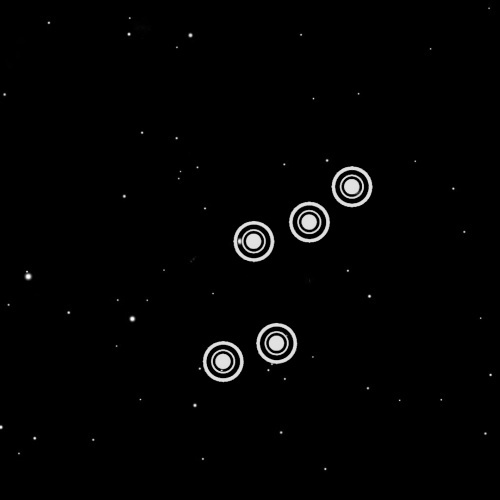lyra: (189, 148, 381, 396)
